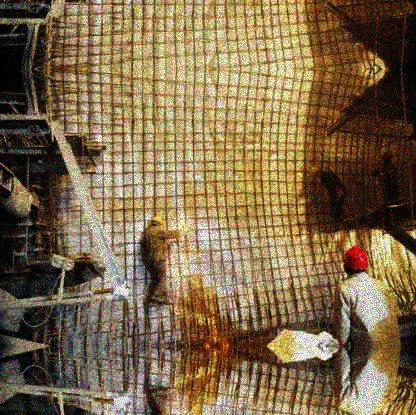helmet: (343, 246, 370, 272), (384, 151, 395, 163), (151, 215, 164, 225), (310, 167, 320, 176)
